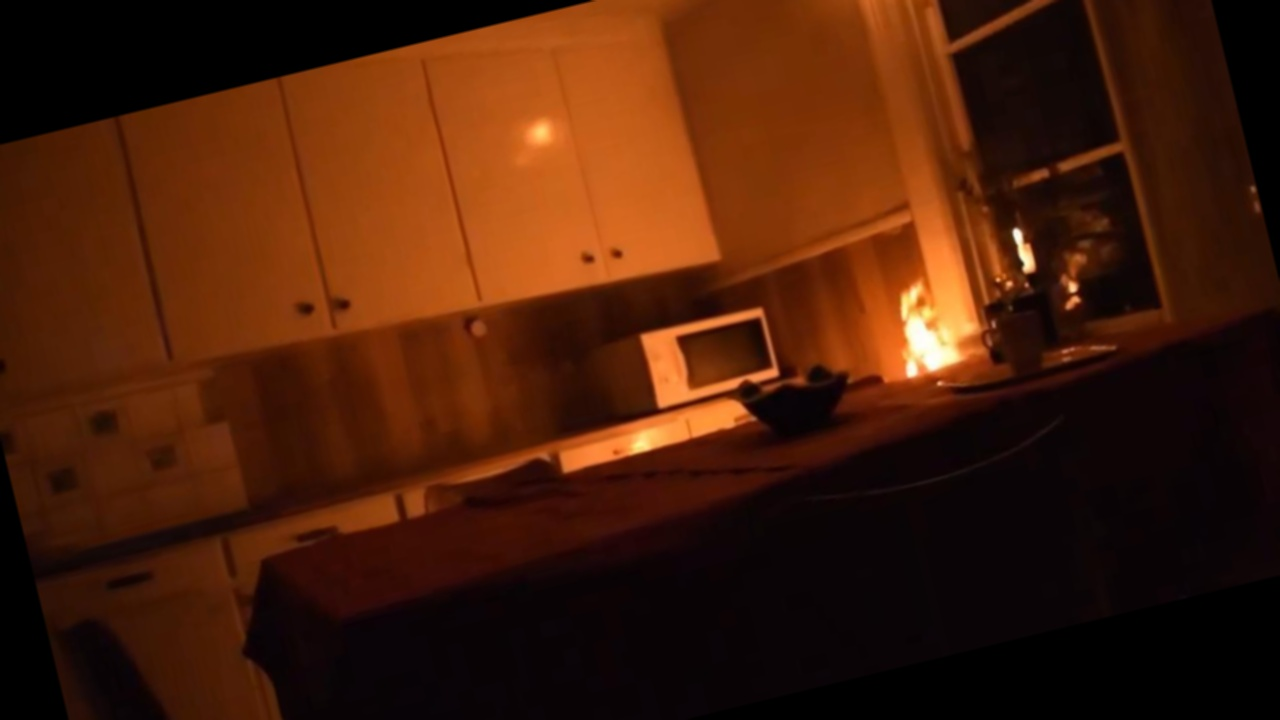fire: (829, 224, 1001, 430)
